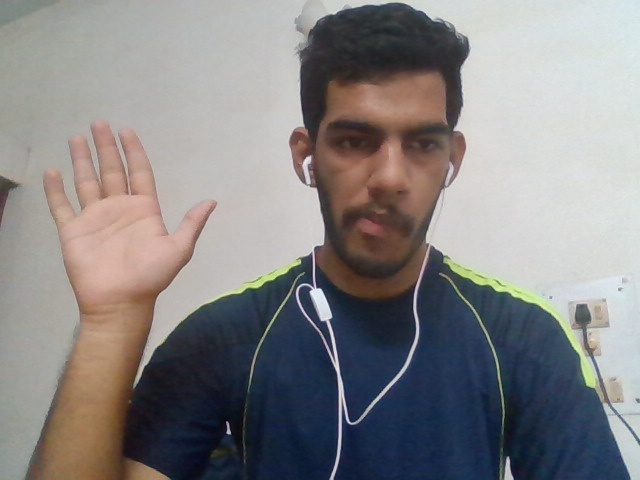hi: (22, 127, 225, 311)
